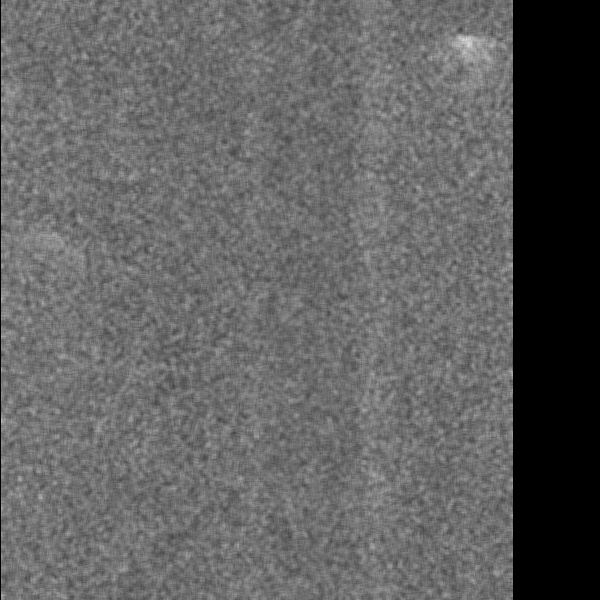spark: (452, 34, 484, 101)
